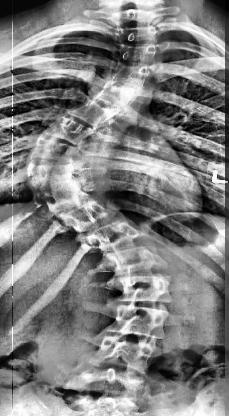Vertebrae: (94, 333, 156, 369), (106, 242, 168, 276), (114, 304, 168, 340), (119, 273, 175, 307), (85, 223, 145, 254), (76, 366, 143, 392), (58, 204, 108, 233), (40, 182, 90, 210), (26, 162, 78, 188), (31, 137, 80, 161), (70, 104, 116, 128), (50, 119, 92, 144), (114, 42, 159, 62), (97, 89, 135, 112), (107, 73, 145, 94), (113, 62, 155, 80), (121, 28, 162, 44)
